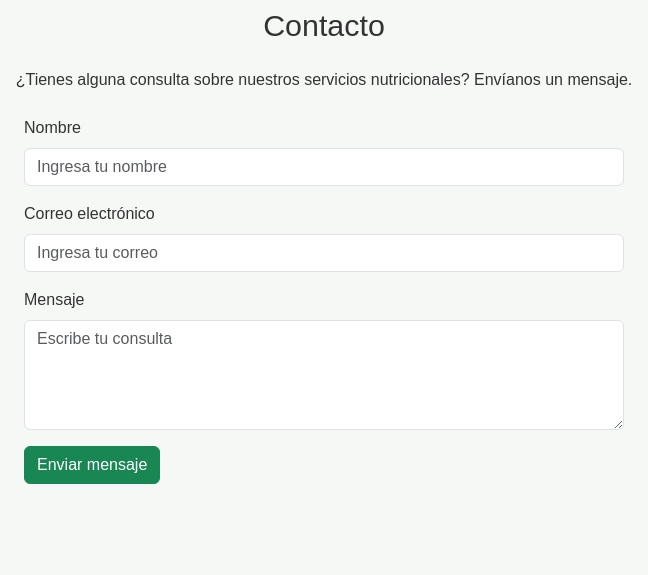
Test: Pruebas del formulario de Contacto › Debe mostrar un error si el correo no es válido
Type "Camila" into the field labelled "Nombre" at (324, 166), box [24,148,624,186]
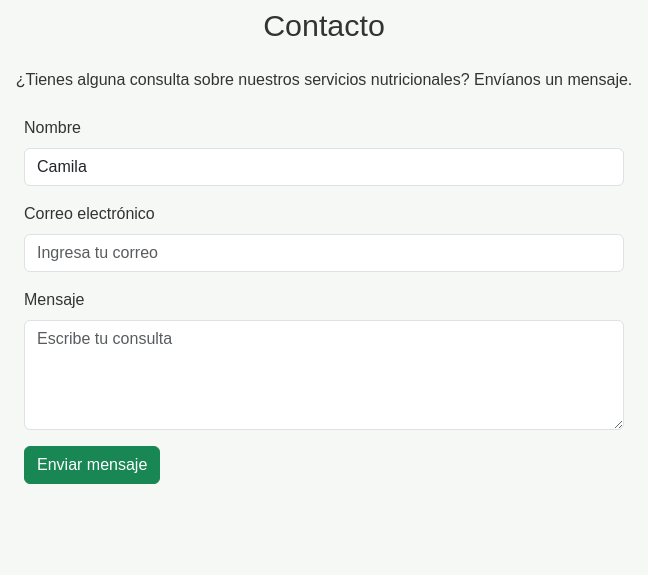
Type "correo-invalido" into the field labelled "Correo electrónico" at (324, 252), box [24,234,624,272]
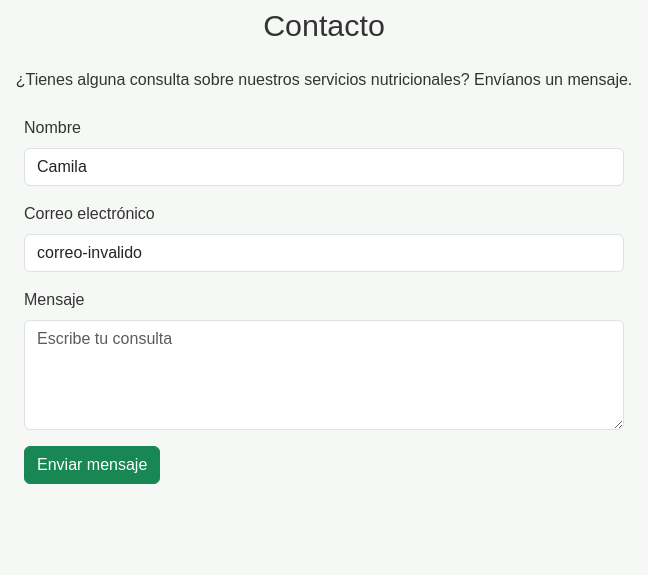
Type "Necesito información nutricional" into the text box labelled "Mensaje" at (324, 374), box [24,320,624,430]
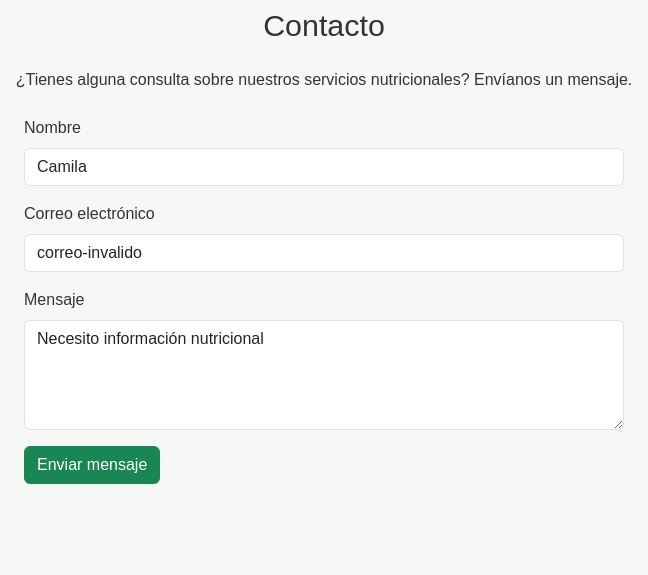
Click the button "Enviar mensaje" at (92, 464), box [24,446,160,484]
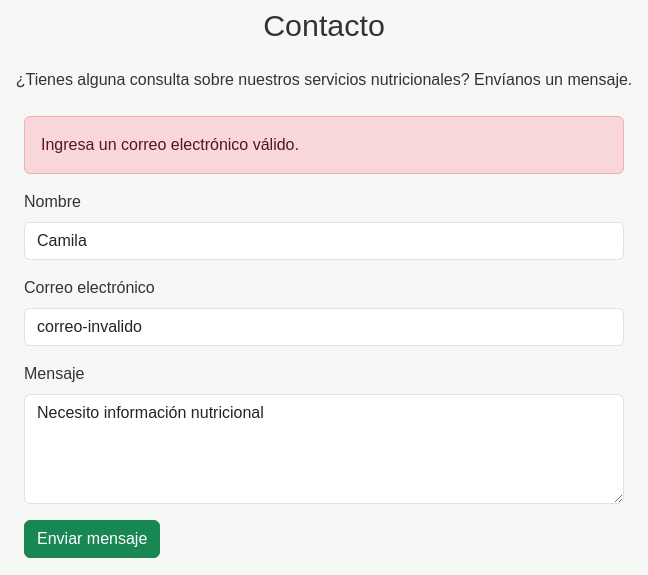
Check: the message reads "Ingresa un correo electrónico válido.", box [41,136,299,152]
